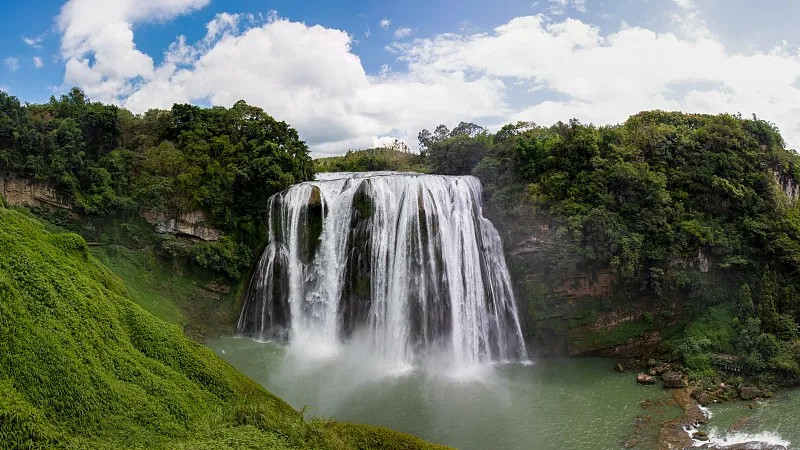Huangguoshu: (238, 169, 534, 365)
